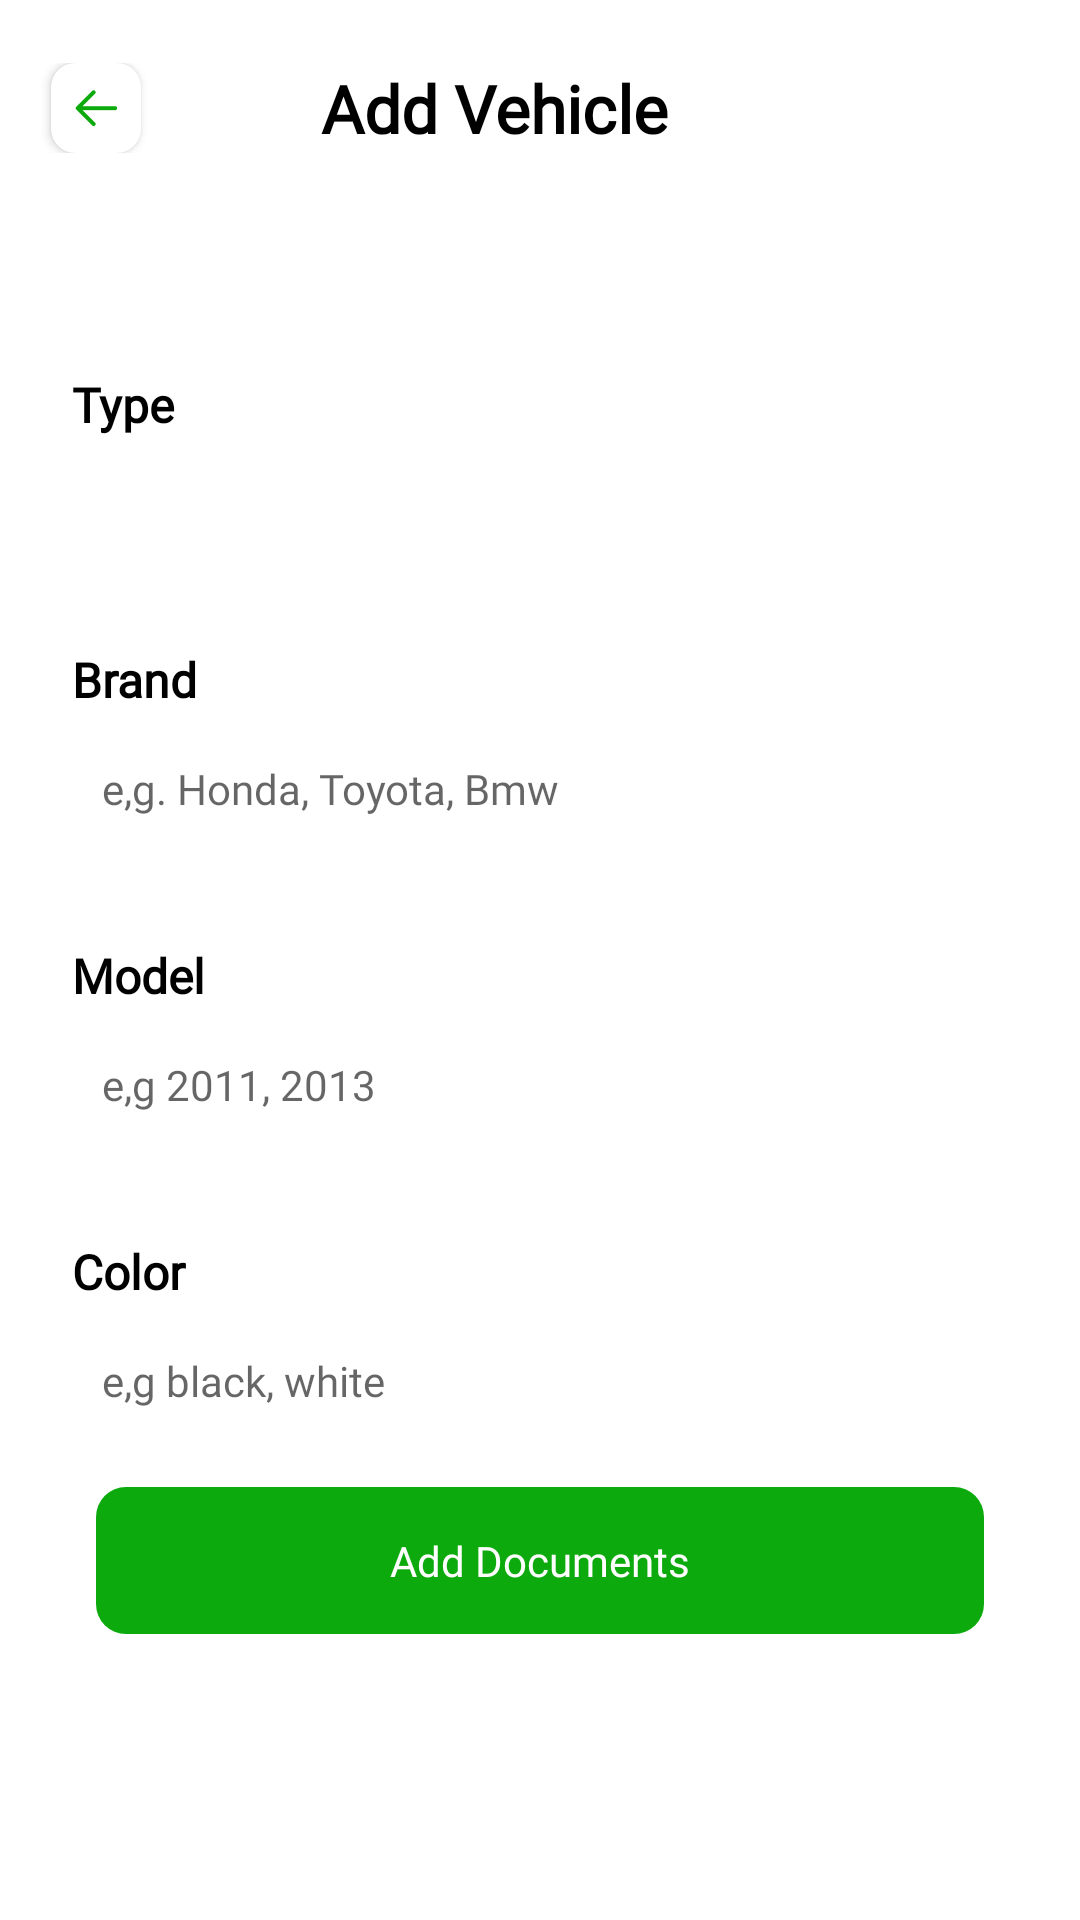

Screen size 1080px×1920px. Icon name, then its box in pixels as (x1, y1, x2, y2):
arrow back: (51, 66, 117, 153)
